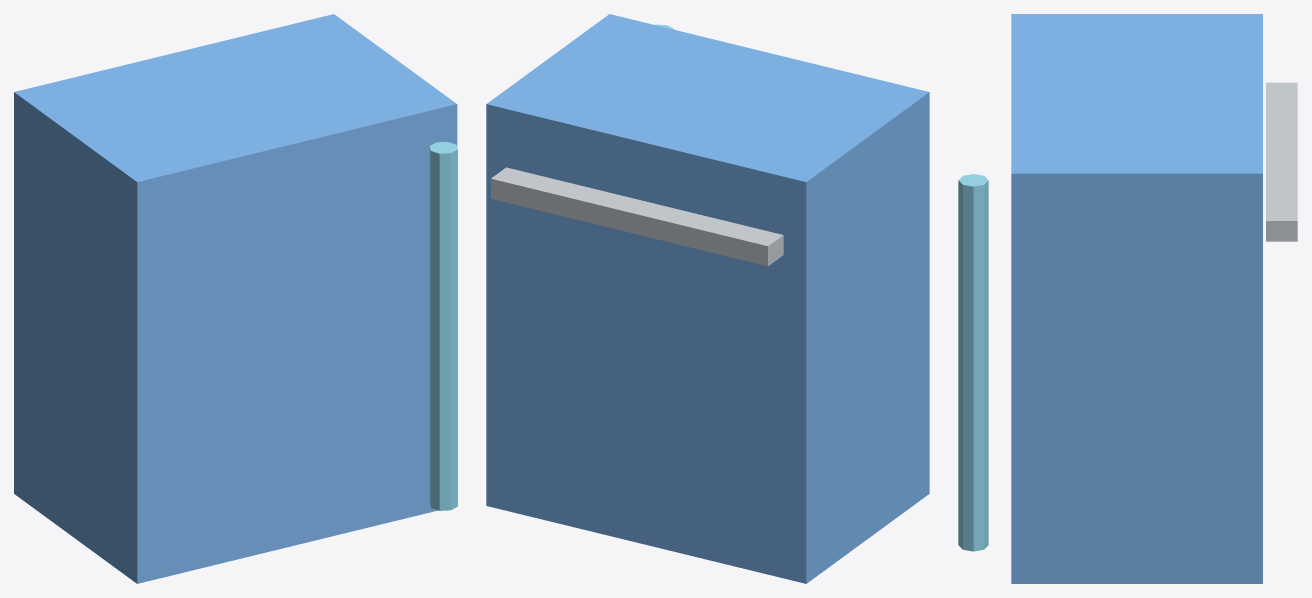
The model's file is refri_3.glb.
3 renders of one model, left to right at view 1: azimuth 30°, elevation 25°; view 2: azimuth 150°, elevation 25°; view 3: azimuth 270°, elevation 25°, orthographic. The views are drawn at different scales.
Visible parts, largest first — view 1: cuerpo, tubo; view 2: cuerpo, aleta; view 3: cuerpo, tubo, aleta.
Part boxes in pixels (<box>): cuerpo: <box>14,14,457,583</box>; tubo: <box>429,141,457,510</box>; cuerpo: <box>486,14,929,583</box>; aleta: <box>491,167,783,266</box>; cuerpo: <box>1011,14,1262,583</box>; tubo: <box>958,174,988,551</box>; aleta: <box>1266,82,1297,241</box>.
Size of the model in its own units: 0.75 by 0.9 by 0.6737.
